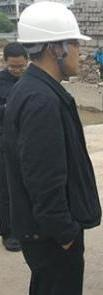boots: (1, 237, 22, 250), (1, 1, 1, 1)
gloves: (1, 0, 1, 0)
hard-hat: (16, 0, 92, 43)
